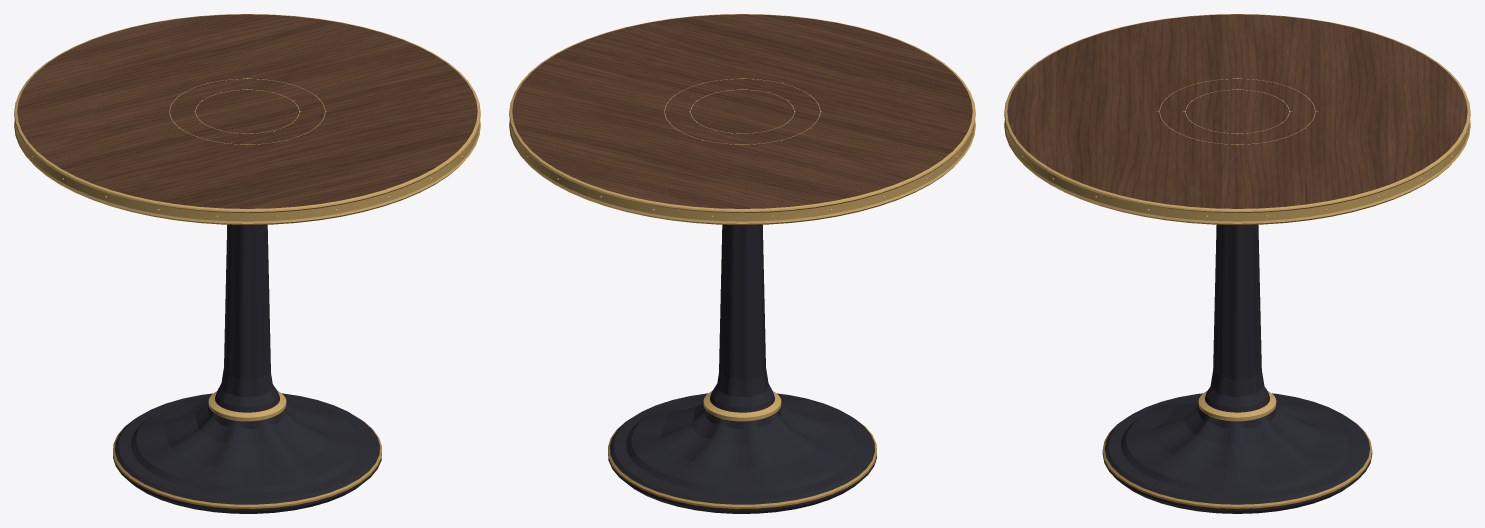
The model's file is table-pedestal.glb.
The picture shows the model from 3 angles, left to right: view 1: azimuth 30°, elevation 25°; view 2: azimuth 150°, elevation 25°; view 3: azimuth 270°, elevation 25°; orthographic projection.
Visible parts, largest first — view 1: Satin quarter-sawn walnut, Graphite cast iron, Brushed brass; view 2: Satin quarter-sawn walnut, Graphite cast iron, Brushed brass; view 3: Satin quarter-sawn walnut, Graphite cast iron, Brushed brass.
Part boxes in pixels (<box>): Satin quarter-sawn walnut: <box>17,14,477,208</box>; Graphite cast iron: <box>113,224,381,513</box>; Brushed brass: <box>14,14,480,508</box>; Satin quarter-sawn walnut: <box>512,14,972,208</box>; Graphite cast iron: <box>608,224,876,513</box>; Brushed brass: <box>509,14,975,508</box>; Satin quarter-sawn walnut: <box>1007,14,1467,208</box>; Graphite cast iron: <box>1102,224,1372,513</box>; Brushed brass: <box>1004,14,1470,508</box>.
Size of the model in its own units: 0.9 by 0.74 by 0.9.
Materials: 3 (1 with a texture image).
